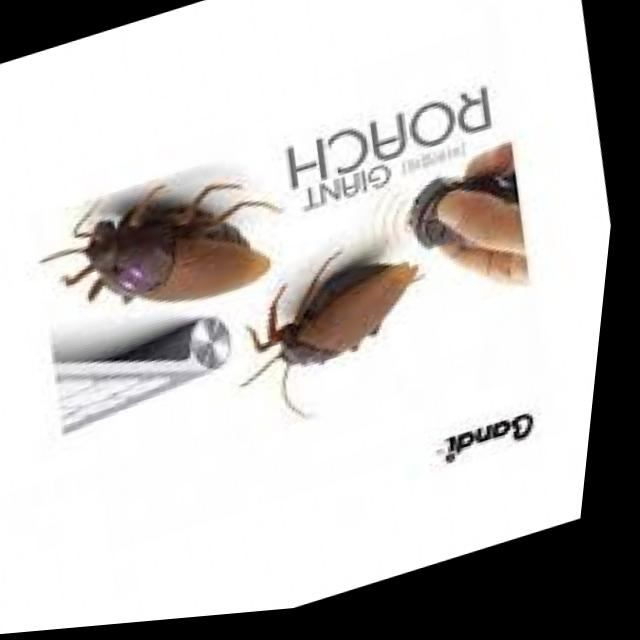Cockroach: (7, 141, 308, 378), (200, 203, 470, 461)
